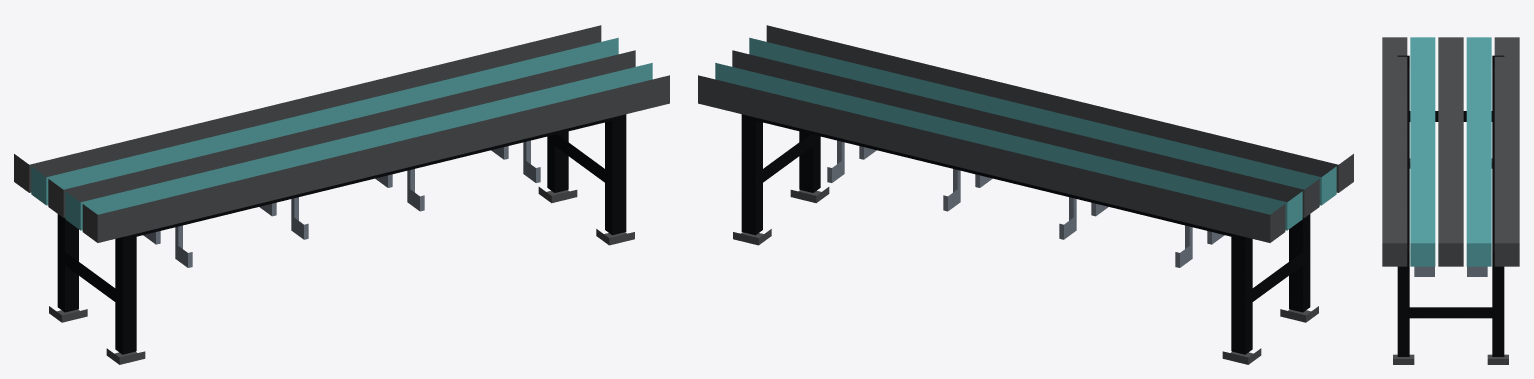
File: tt_climb_change_bench.glb
3 renders of one model, left to right at view 1: azimuth 30°, elevation 25°; view 2: azimuth 150°, elevation 25°; view 3: azimuth 270°, elevation 25°, orthographic. The views are drawn at different scales.
Visible parts, largest first — view 1: Seat_Slats_Rubber, Seat_Slats_Pad, Frame, Hooks, Feet; view 2: Seat_Slats_Rubber, Seat_Slats_Pad, Frame, Hooks, Feet; view 3: Seat_Slats_Rubber, Seat_Slats_Pad, Frame, Hooks, Feet.
Part boxes in pixels (x1=…): Seat_Slats_Rubber: x1=14, y1=25, x2=669, y2=242; Seat_Slats_Pad: x1=31, y1=37, x2=652, y2=230; Frame: x1=57, y1=114, x2=626, y2=354; Hooks: x1=143, y1=140, x2=540, y2=267; Feet: x1=49, y1=187, x2=634, y2=364; Seat_Slats_Rubber: x1=698, y1=25, x2=1353, y2=242; Seat_Slats_Pad: x1=715, y1=37, x2=1336, y2=230; Frame: x1=741, y1=114, x2=1310, y2=354; Hooks: x1=827, y1=140, x2=1224, y2=267; Feet: x1=733, y1=187, x2=1318, y2=364; Seat_Slats_Rubber: x1=1382, y1=37, x2=1519, y2=266; Seat_Slats_Pad: x1=1410, y1=37, x2=1491, y2=266; Frame: x1=1397, y1=55, x2=1504, y2=356; Hooks: x1=1414, y1=266, x2=1487, y2=276; Feet: x1=1393, y1=158, x2=1508, y2=364.
Size of what is drawn, in the model's own units: 1.78 by 0.48 by 0.45.
Materials: 4 (2 with a texture image).
